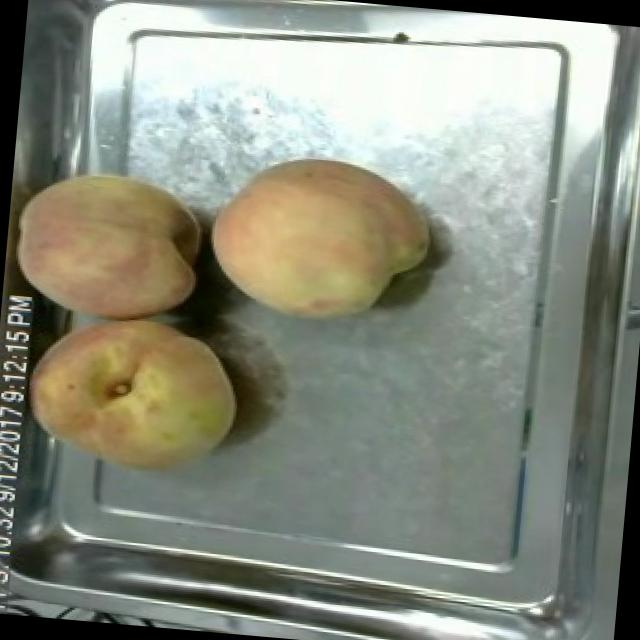Fruit: (195, 140, 444, 340), (12, 304, 252, 493), (2, 155, 211, 325)
